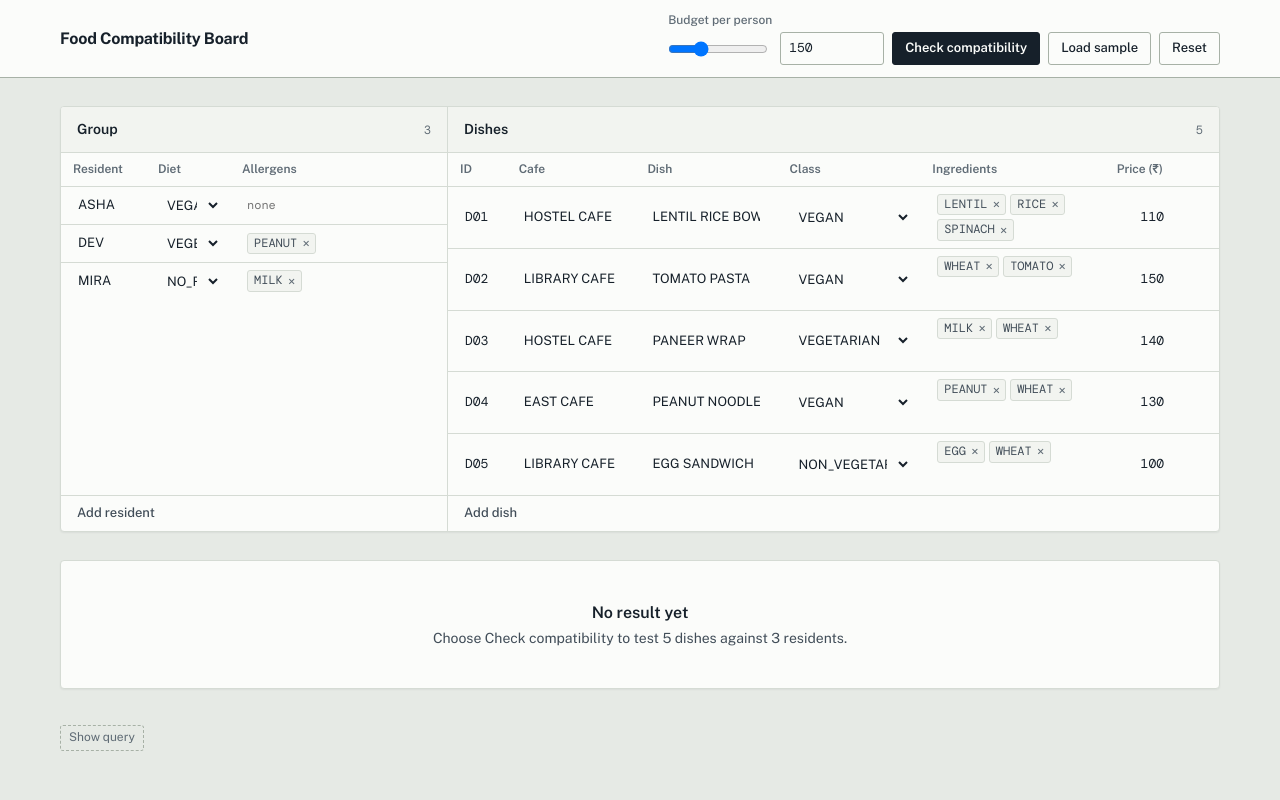
Test case: AC5 — a D01 price of 0 reports INVALID_INPUT and clears the result › reports DUPLICATE_DISH_ID when two dishes share an id
Replace the text in the field named "Dish 5 ID" with "D01" at (477, 464), box [456,449,499,480]
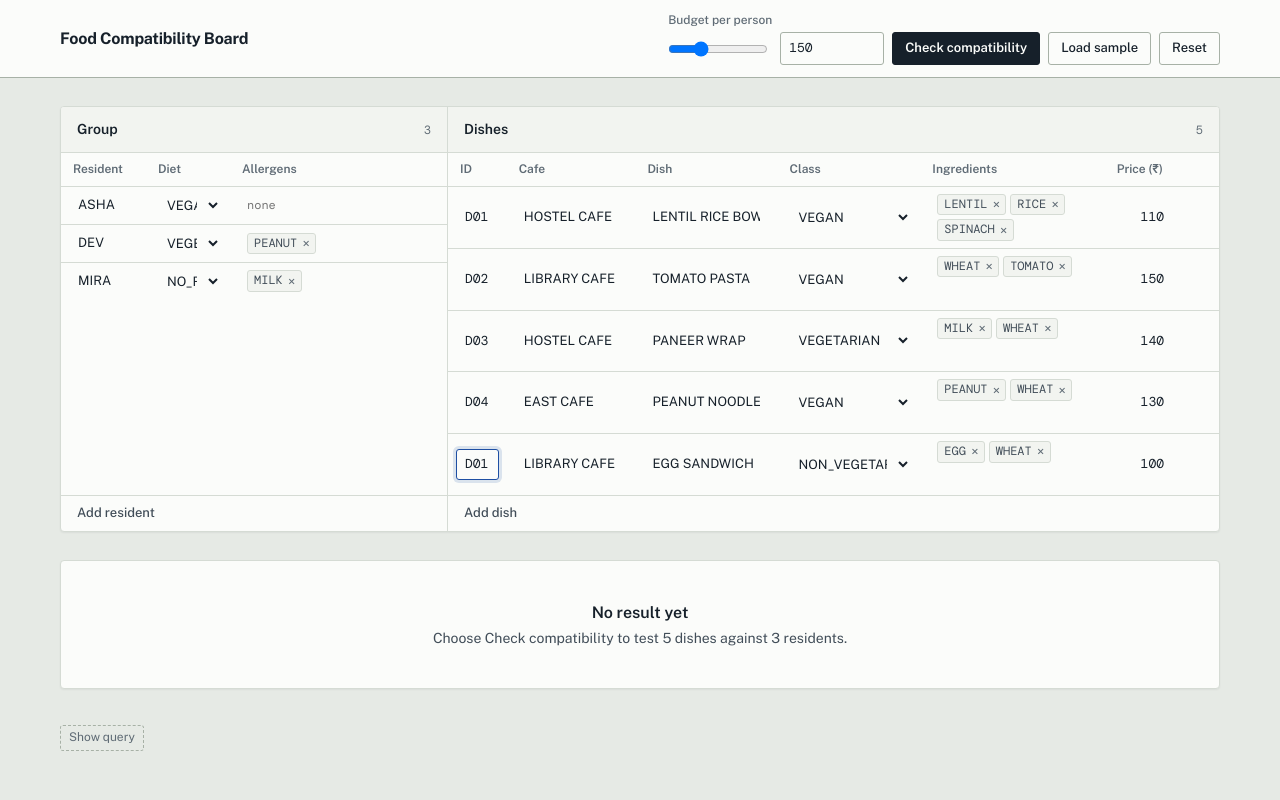
Click the button "Check compatibility" at (966, 49), box [892,32,1040,65]
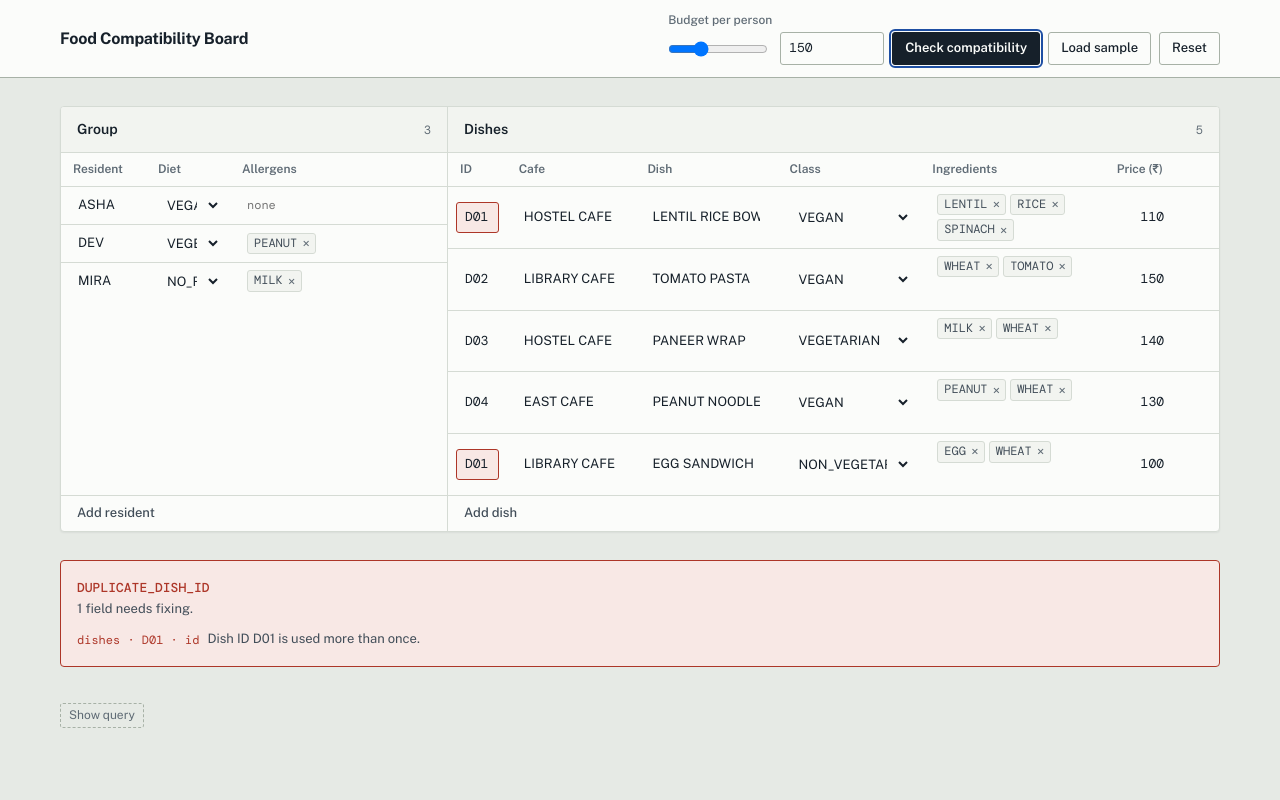
Expected: the text "DUPLICATE_DISH_ID" is shown, [77,579,210,596]
